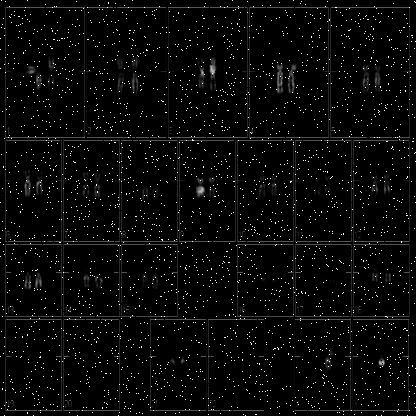1: (17, 60, 44, 92), (43, 48, 61, 92)
10: (256, 168, 268, 202), (268, 169, 278, 203)
11: (312, 169, 324, 203), (324, 169, 334, 203)
12: (380, 171, 392, 202), (370, 170, 381, 201)
13: (22, 264, 34, 294), (32, 266, 44, 295)
14: (80, 266, 92, 292), (92, 266, 104, 292)
15: (150, 262, 161, 292), (140, 262, 150, 292)
16: (268, 264, 280, 290), (258, 262, 268, 290)
17: (317, 263, 328, 290), (328, 264, 337, 290)
18: (369, 262, 381, 288), (381, 262, 393, 288)
19: (35, 346, 47, 369), (23, 346, 35, 368)
2: (127, 51, 142, 98), (112, 51, 126, 98)
20: (90, 348, 101, 368), (80, 348, 90, 368)
21: (178, 346, 190, 374), (166, 346, 178, 373)
22: (236, 346, 246, 368), (227, 346, 236, 368)
3: (194, 48, 208, 94), (207, 48, 221, 94)
4: (273, 52, 287, 100), (286, 52, 300, 99)
5: (359, 59, 372, 97), (372, 59, 385, 97)
6: (20, 161, 35, 201), (34, 162, 48, 202)
7: (79, 164, 93, 204), (92, 164, 104, 204)
8: (149, 172, 160, 206), (140, 172, 150, 206)
9: (194, 168, 208, 203), (207, 168, 221, 203)
X: (320, 340, 338, 378)
Y: (375, 348, 388, 371)
